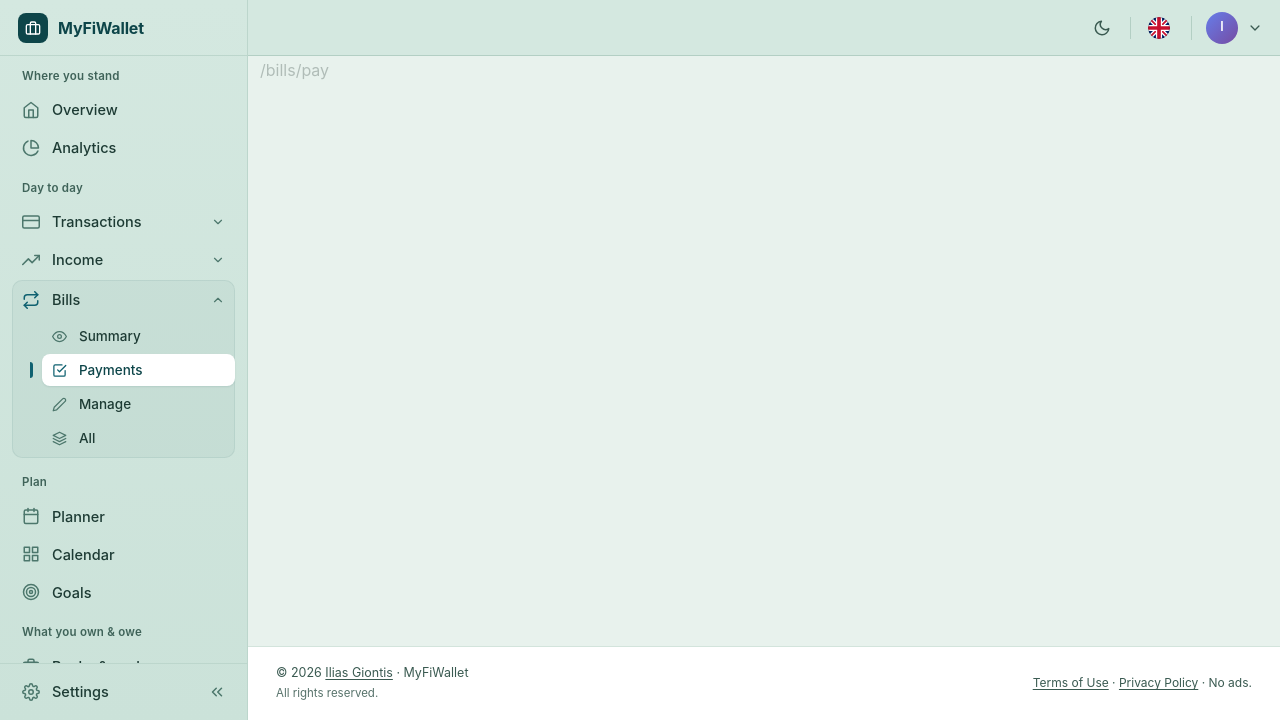
Test case: menu style a › keeps a closed section lit while one of its pages is open
// Closed, the section stands in for it — name and all, not only the icon.
Click the button "Bills". click: (124, 300)
box: [12,282,235,318]
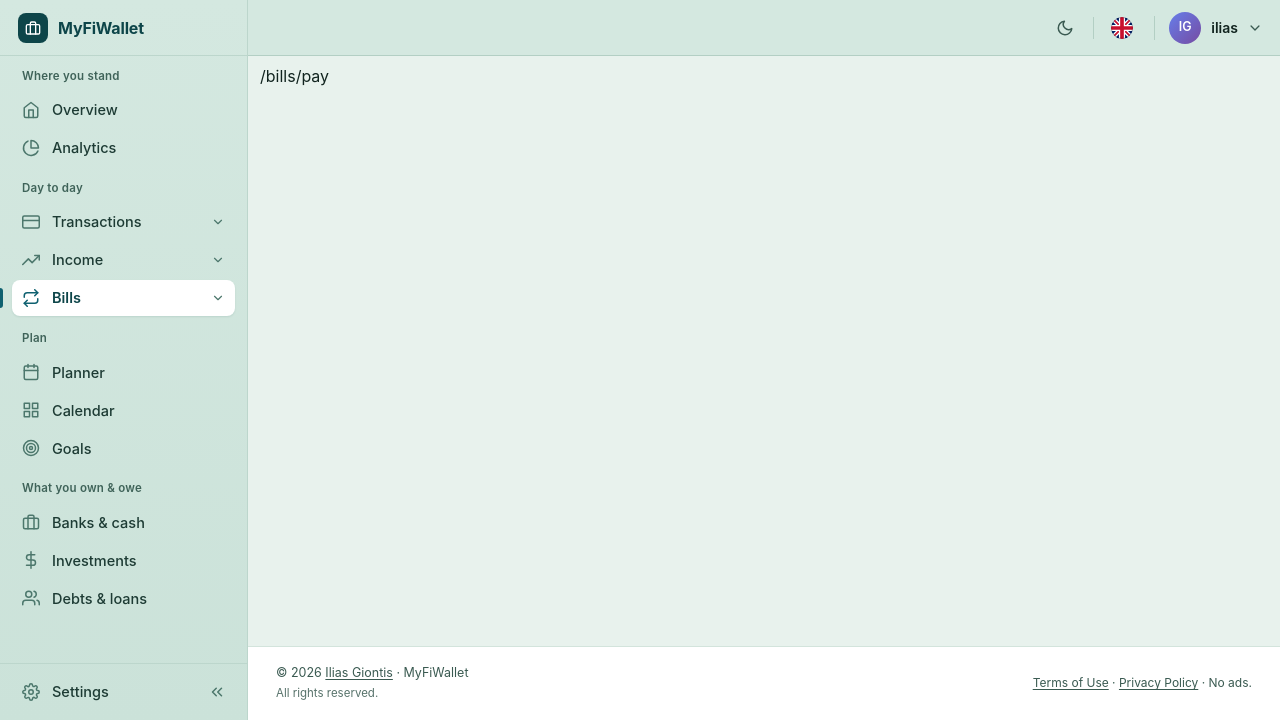
Expected: the button "Bills" is collapsed, [12,280,235,316]
